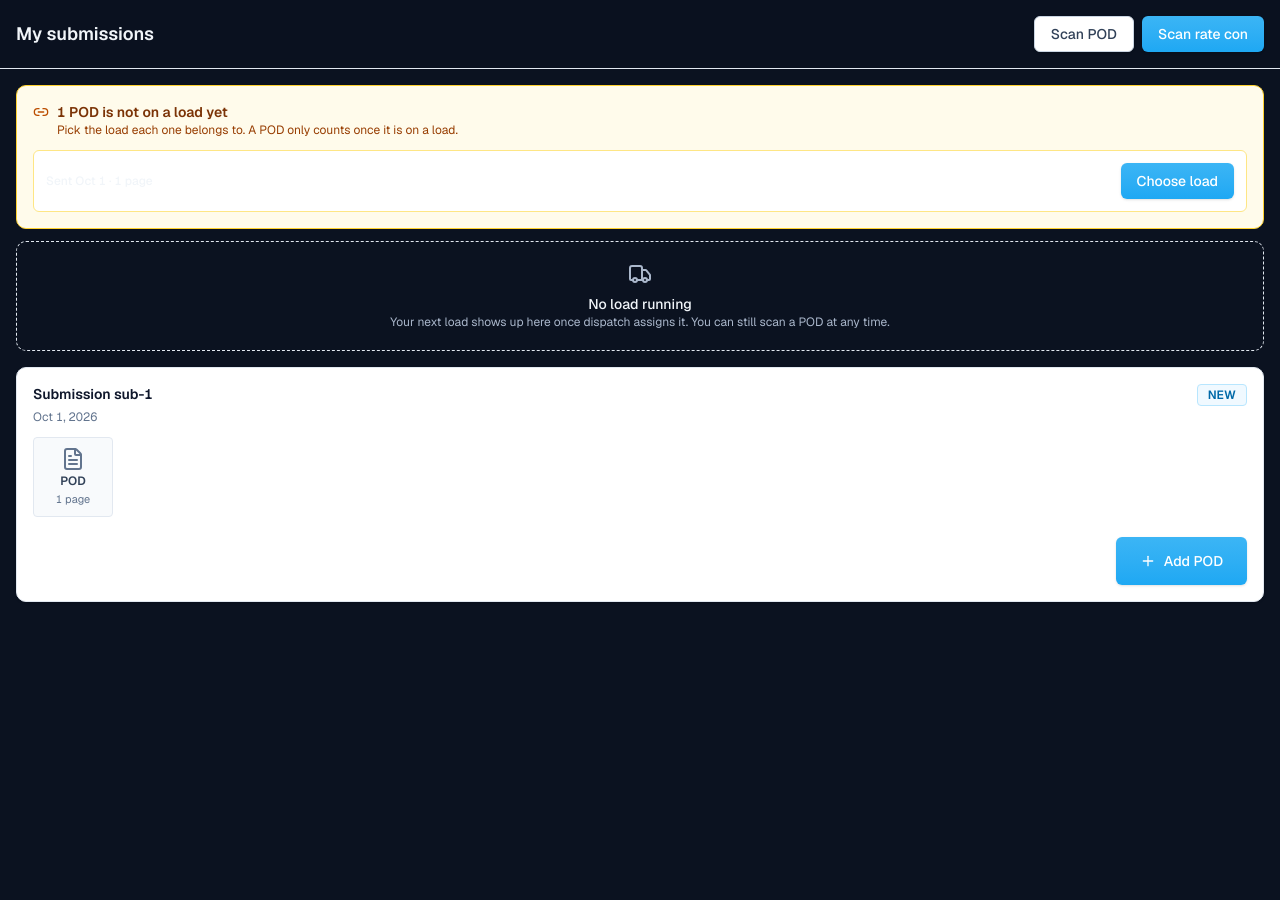
Test case: SubmissionsPage › a POD waiting for a load › attaches the POD to the load the driver picks, and stops asking
Click the button "Choose load" at (1177, 181), box [1120,163,1234,199]
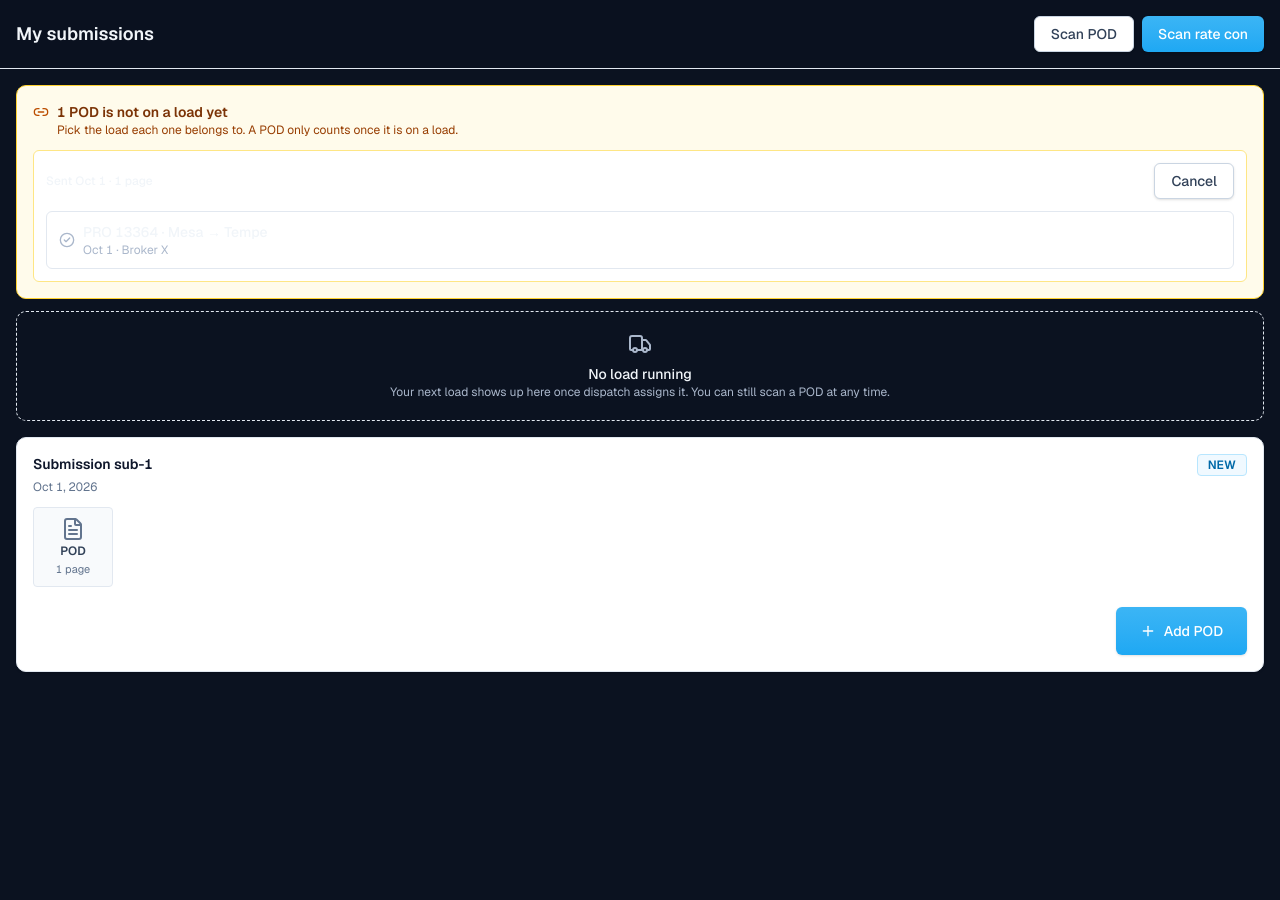
Click the button "PRO 13364 · Mesa → Tempe Oct 1 · Broker X" at (99, 232), box [46,211,1234,269]
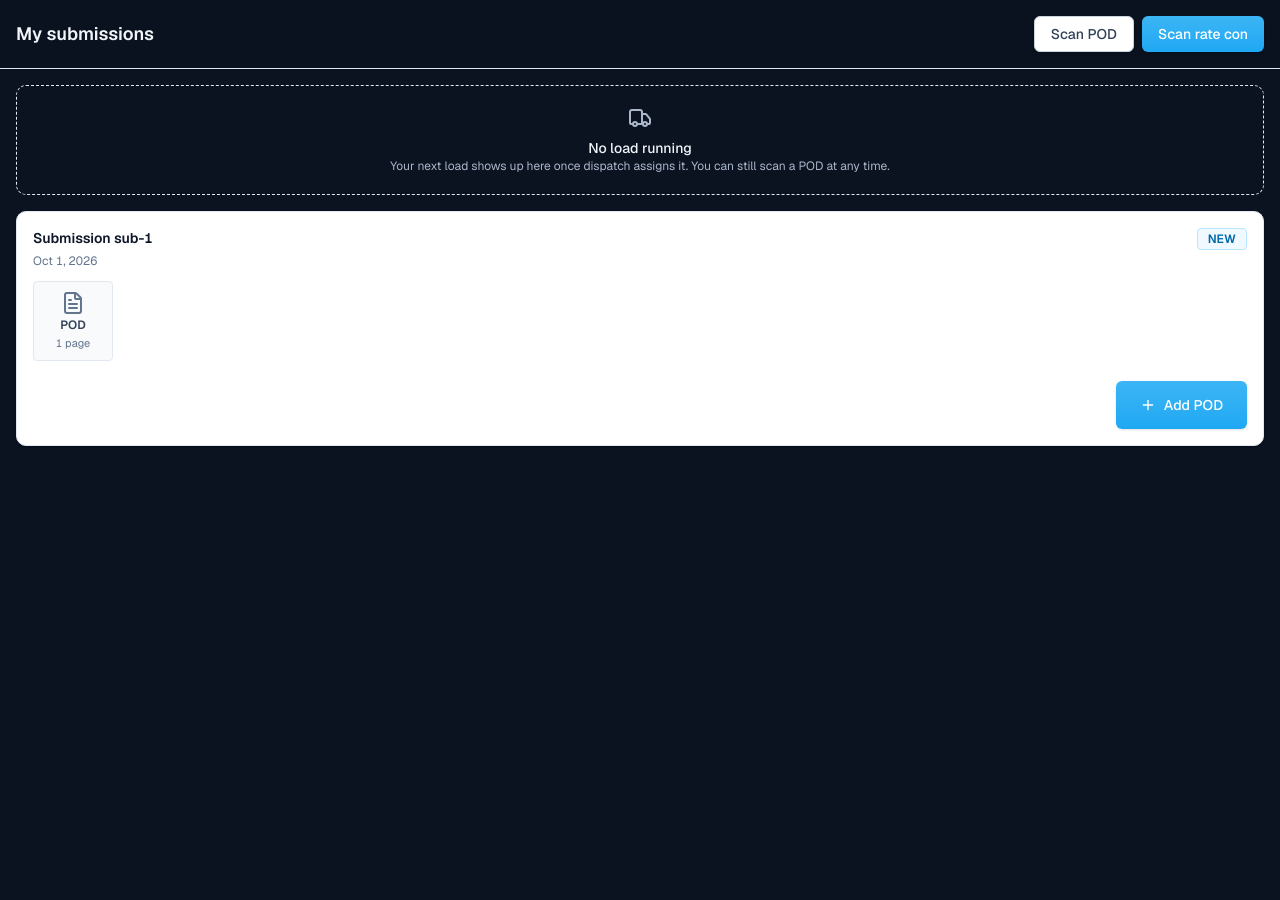
Now the heading "not on a load yet" is gone
